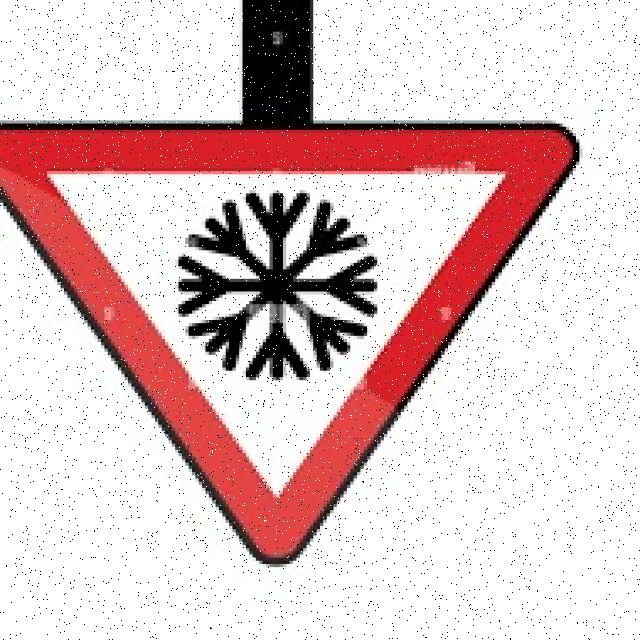snow_warning: (0, 111, 593, 580)
